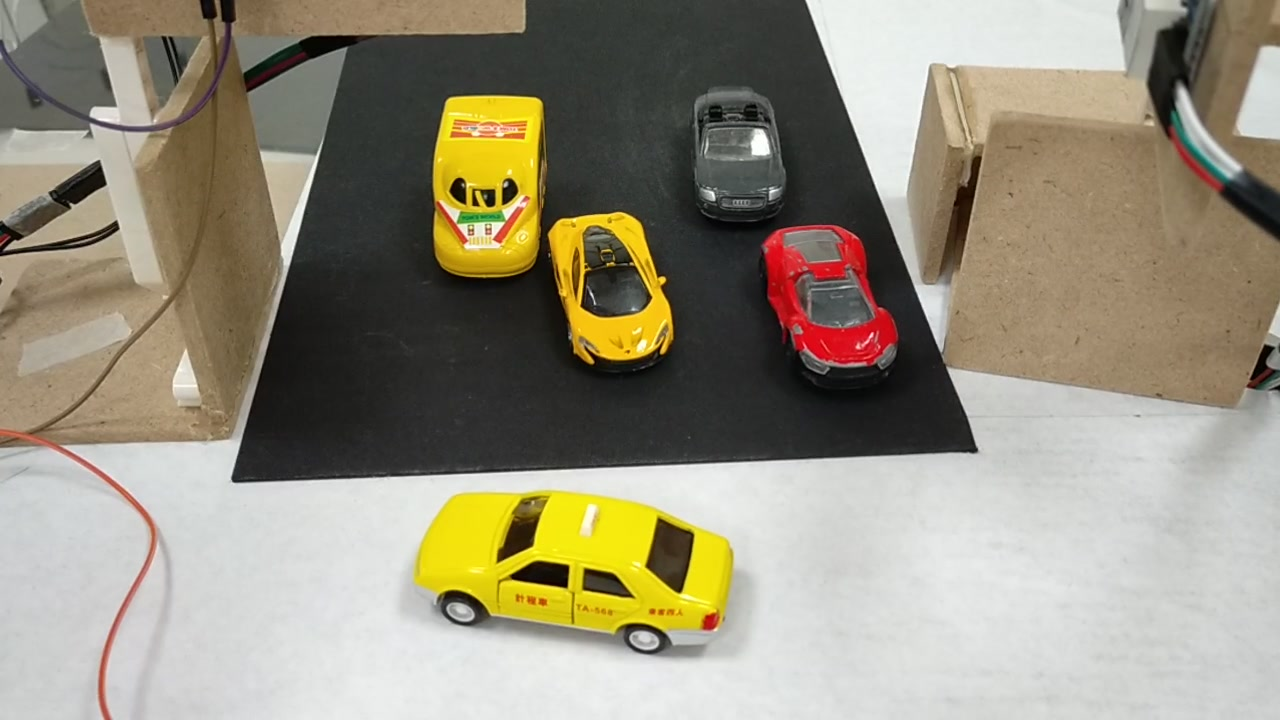car: (416, 493, 736, 654), (761, 226, 899, 380), (547, 215, 678, 371), (685, 88, 786, 221)
